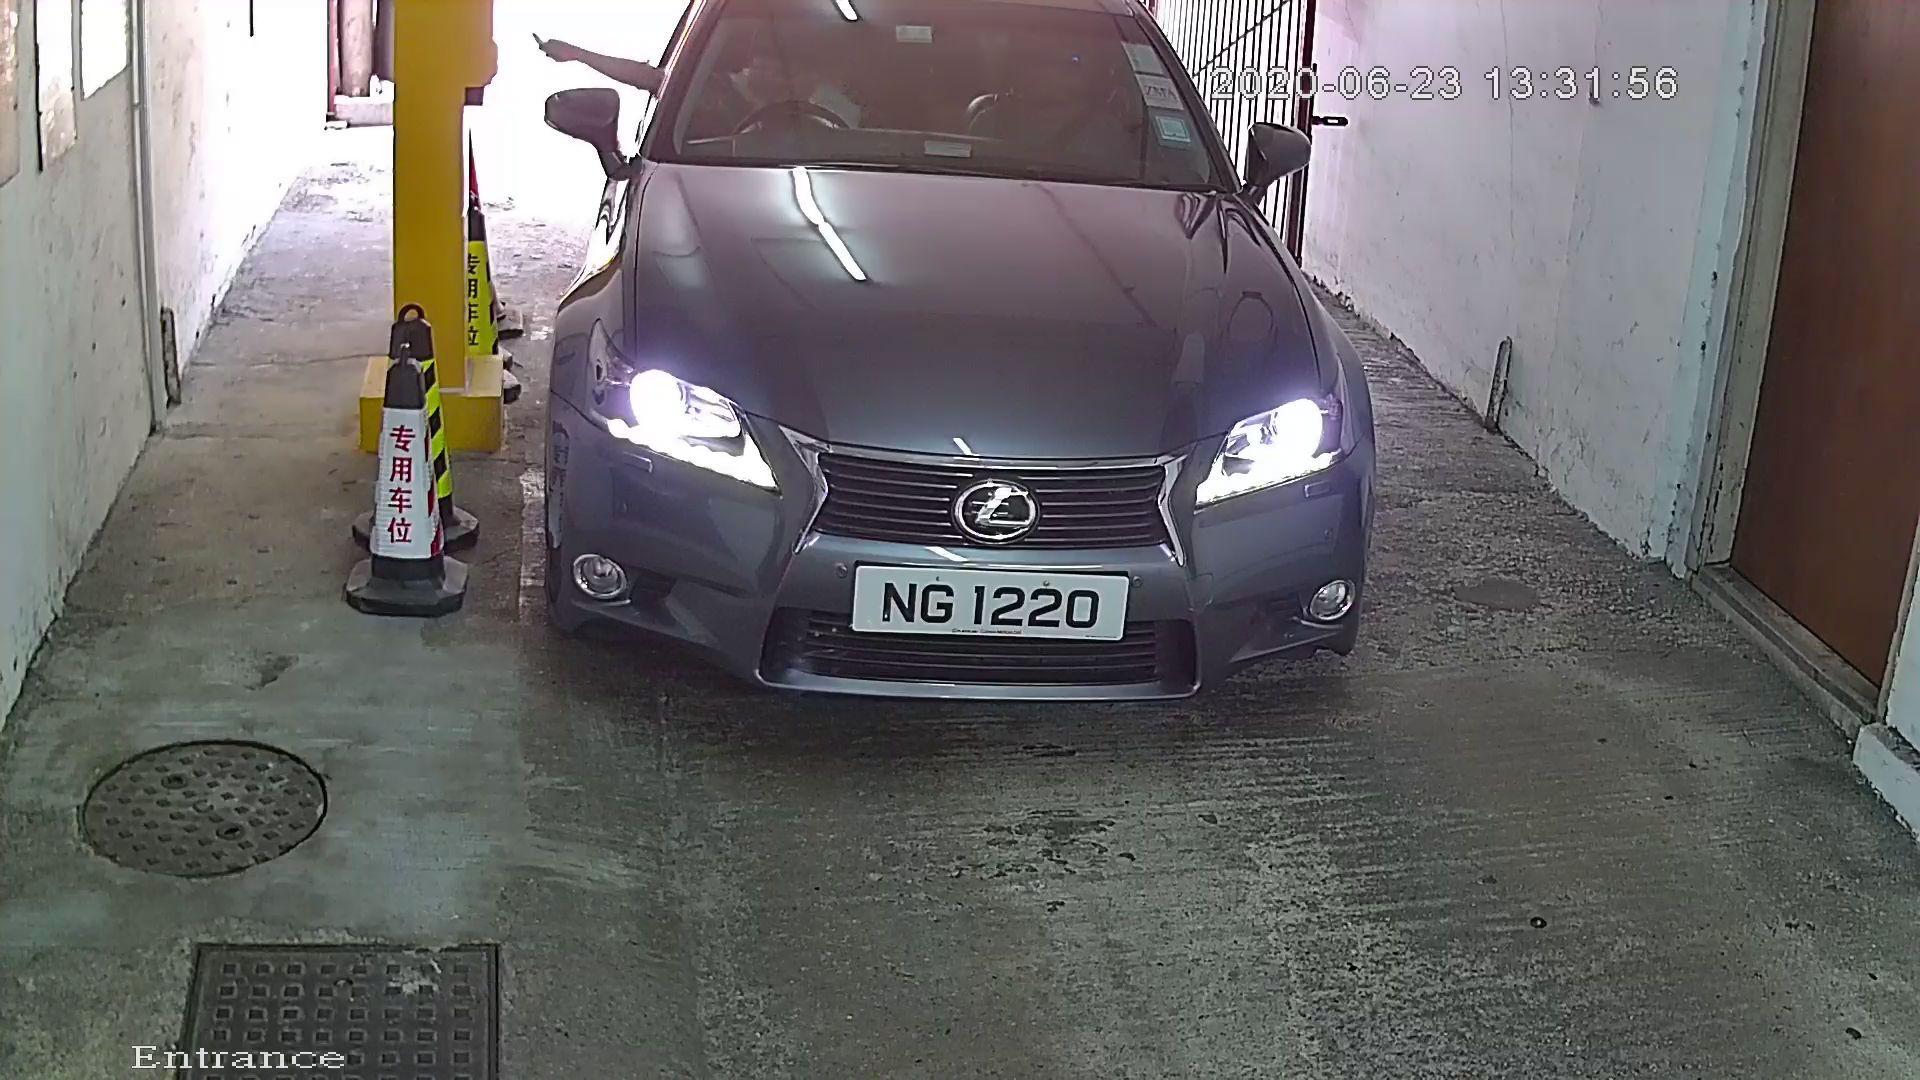privatecar: (524, 1, 1432, 752)
